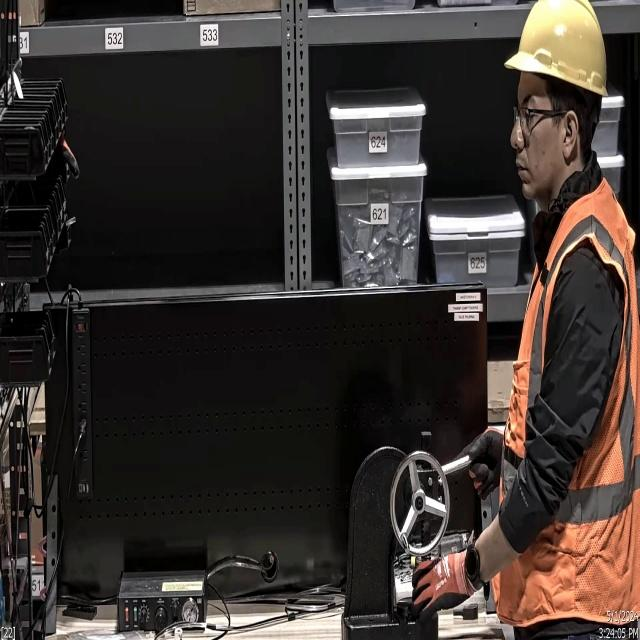gloves: (408, 536, 472, 634), (461, 428, 506, 497)
